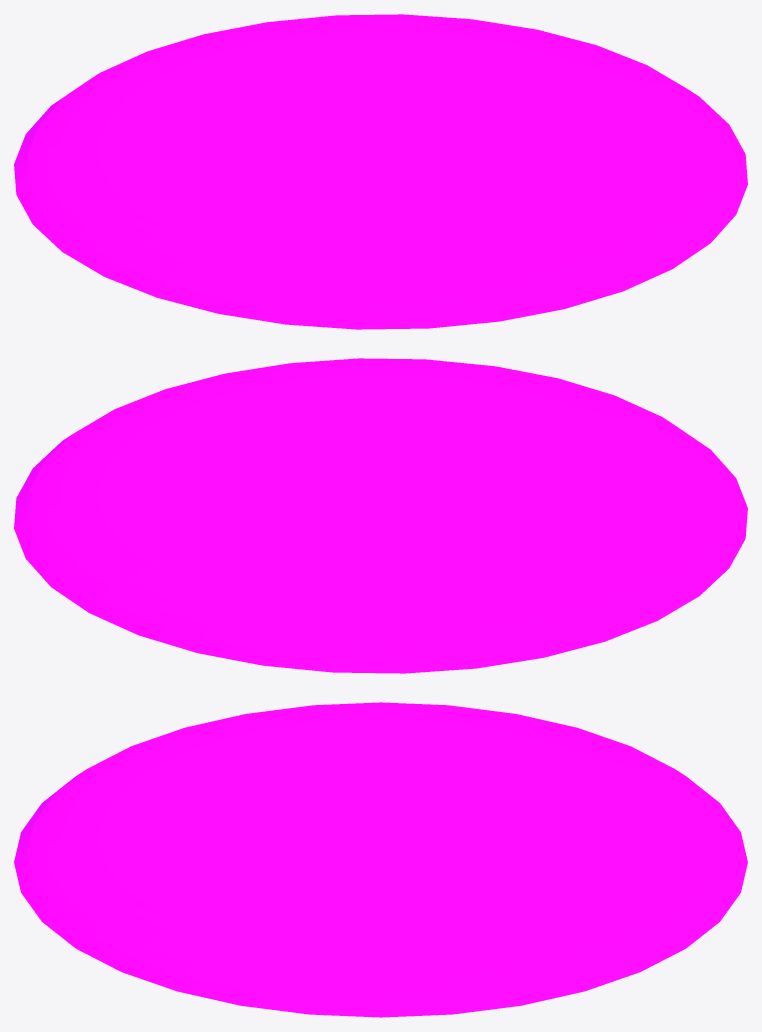
Rendered from startbox.glb.
The picture shows the model from 3 angles, top to bottom: view 1: azimuth 30°, elevation 25°; view 2: azimuth 150°, elevation 25°; view 3: azimuth 270°, elevation 25°; orthographic projection.
Parts seen in each view (by area): view 1: Cylinder118; view 2: Cylinder118; view 3: Cylinder118.
Part boxes in pixels (<box>): Cylinder118: <box>14,14,747,329</box>; Cylinder118: <box>14,358,747,673</box>; Cylinder118: <box>14,702,747,1017</box>.
Size of the model in its own units: 7.35 by 0.267 by 7.35.
1 material, 1 textured.
